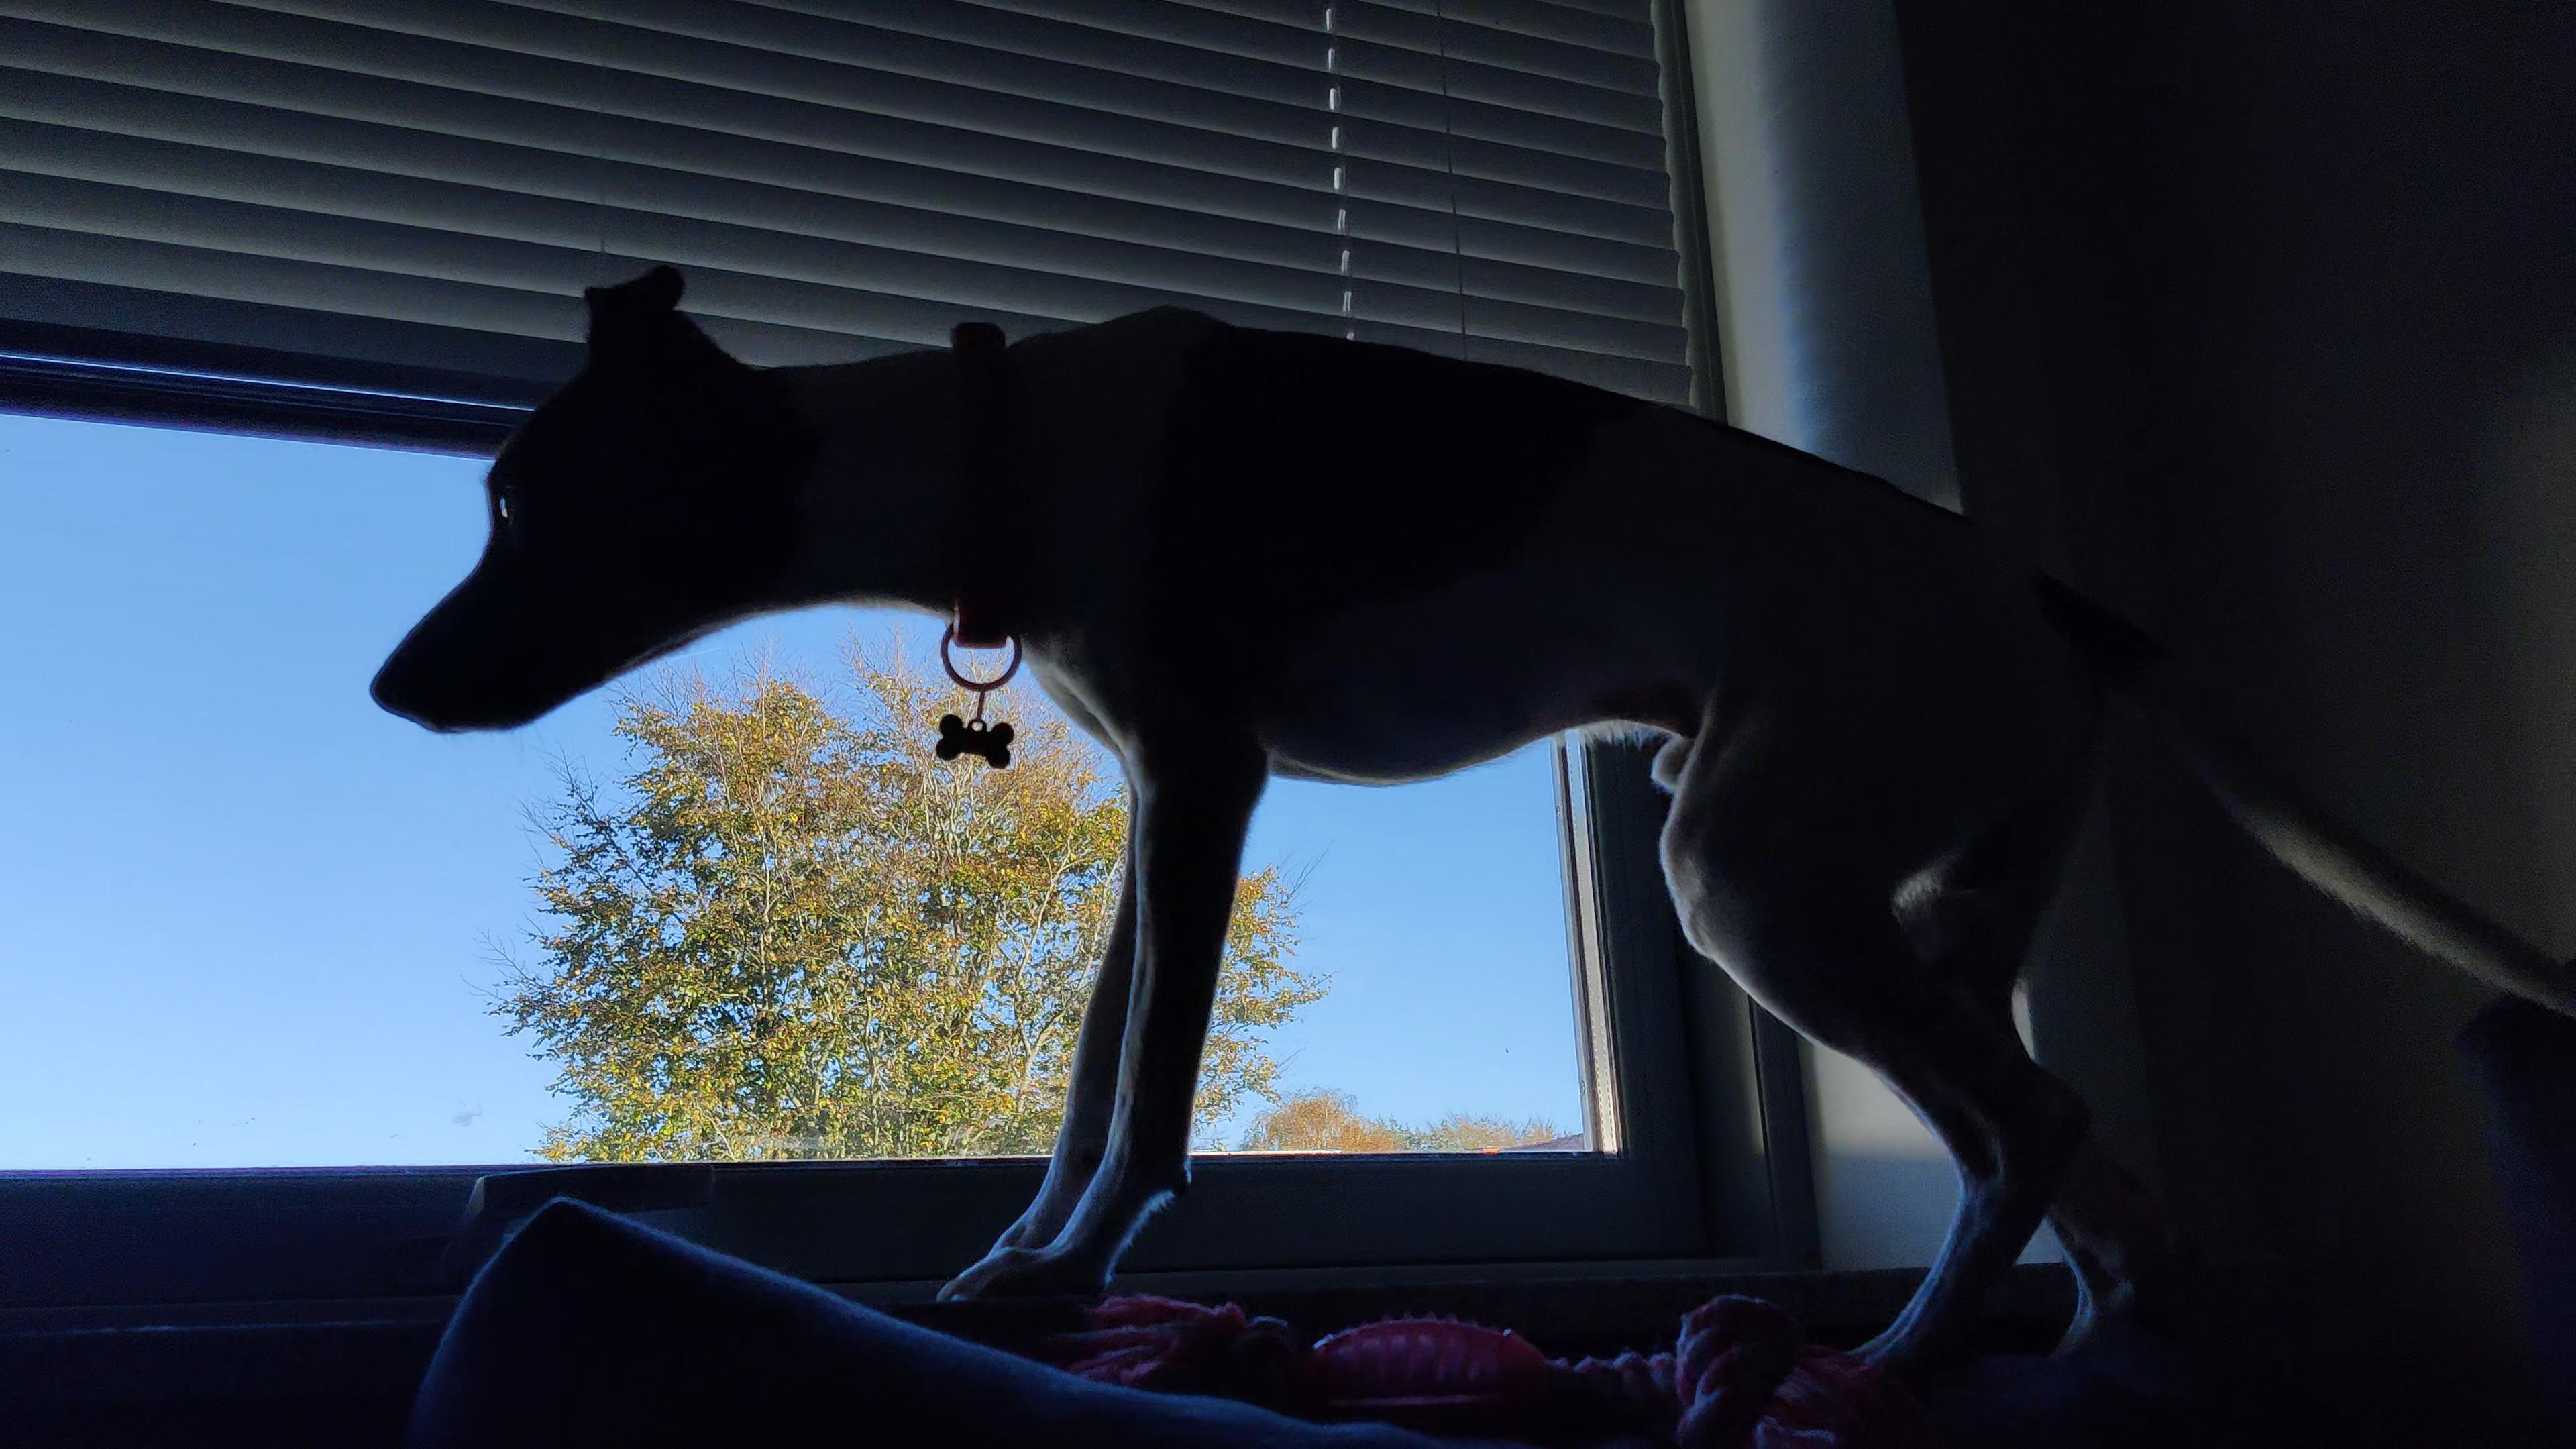Dog: (361, 246, 2576, 1387)
